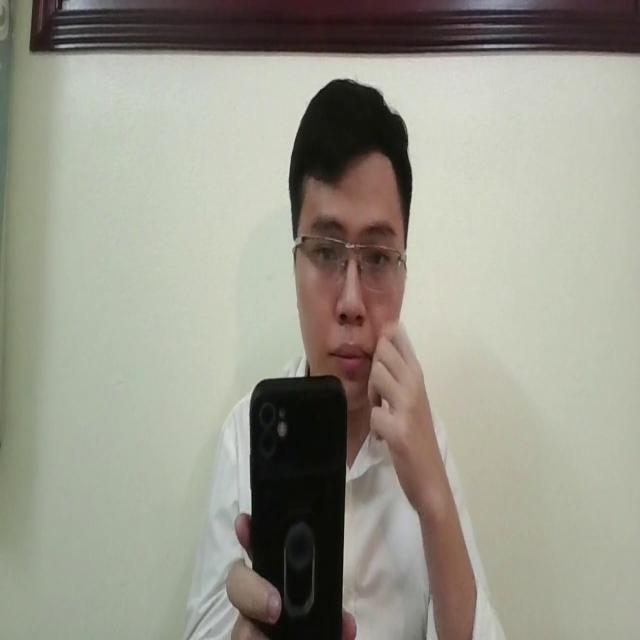phone: (248, 370, 348, 640)
student: (188, 75, 505, 640)
